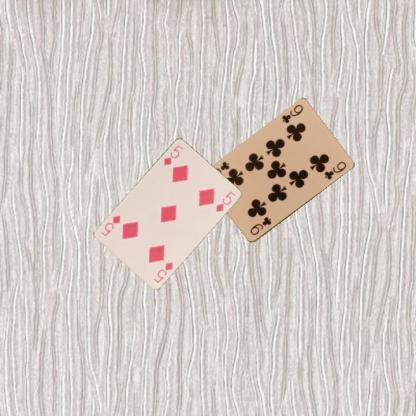5d: (151, 258, 174, 284), (162, 142, 184, 167)
9c: (247, 214, 273, 236), (280, 102, 304, 124)
